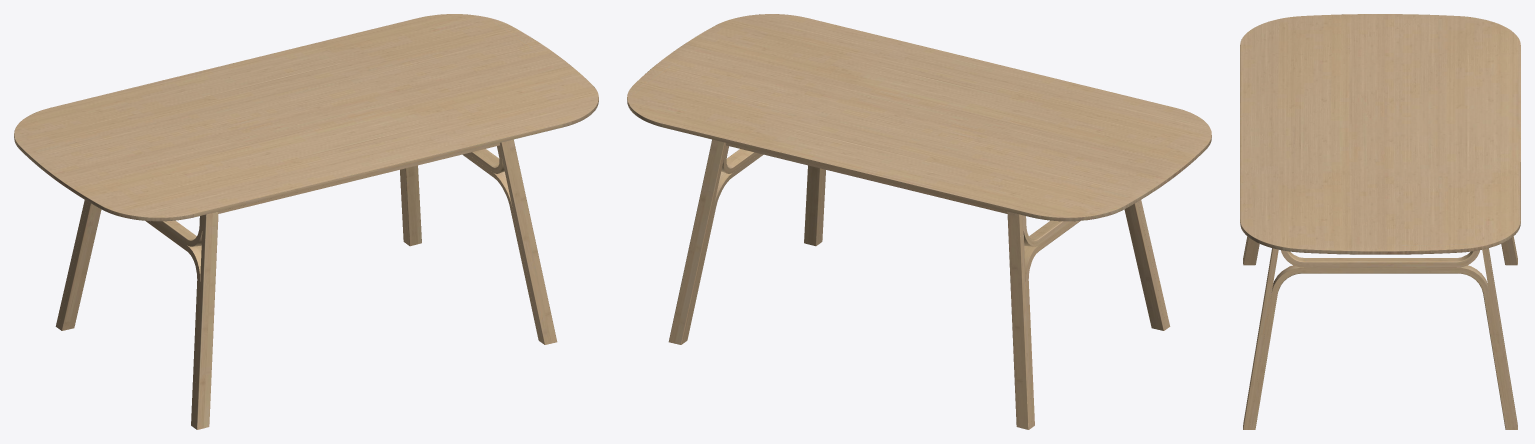
Rendered from VOXL_V_40434322.glb.
3 views of the same model, side by side, from view 1: azimuth 30°, elevation 25°; view 2: azimuth 150°, elevation 25°; view 3: azimuth 270°, elevation 25° (orthographic). The views are drawn at different scales.
Parts seen in each view (by area): view 1: model; view 2: model; view 3: model.
Part boxes in pixels (x1=…): model: x1=14, y1=14, x2=598, y2=429; model: x1=627, y1=14, x2=1211, y2=429; model: x1=1240, y1=14, x2=1520, y2=429.
Size of the model in its own units: 1.8 by 0.753 by 0.9.
1 material, 1 textured.
